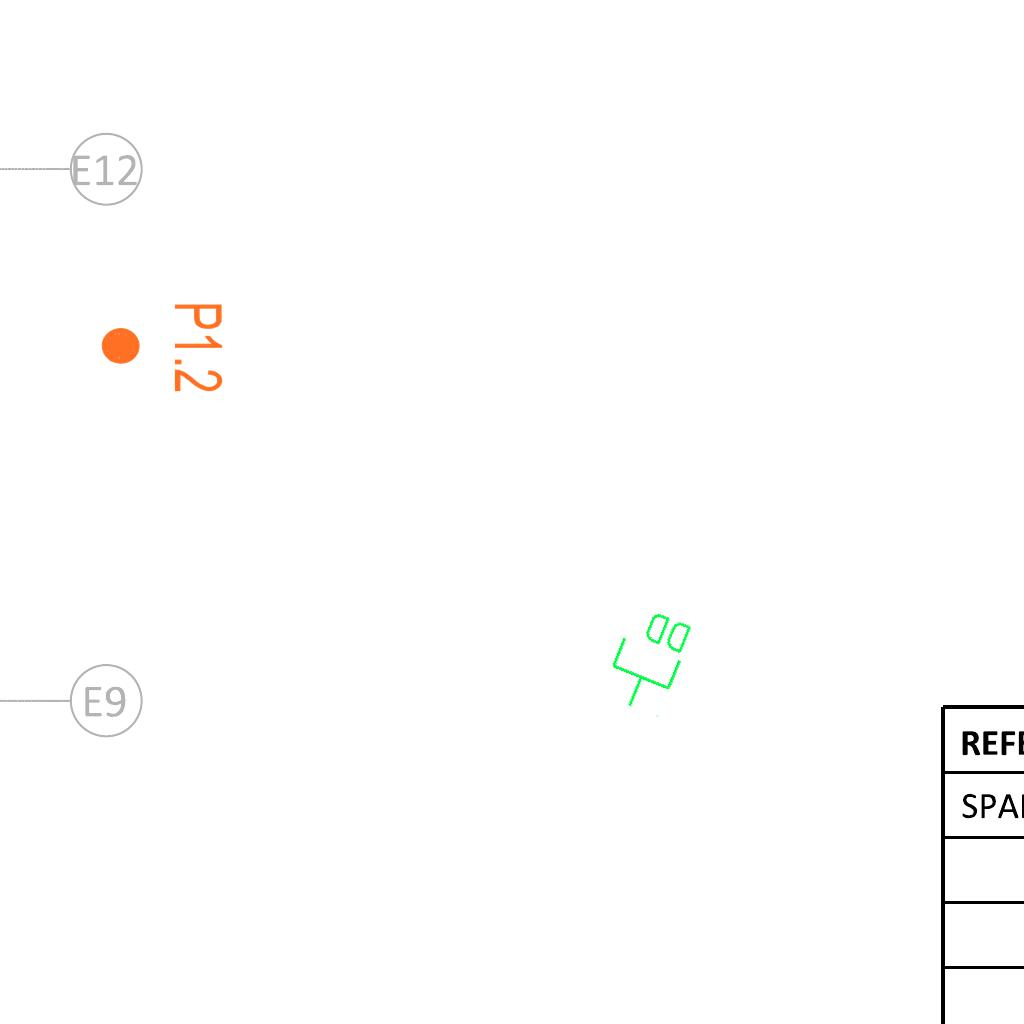Datenanschluss_zweifach: (597, 599, 700, 722)
Downlight_LED_Einbauleuchten_Flur: (98, 301, 226, 394)
